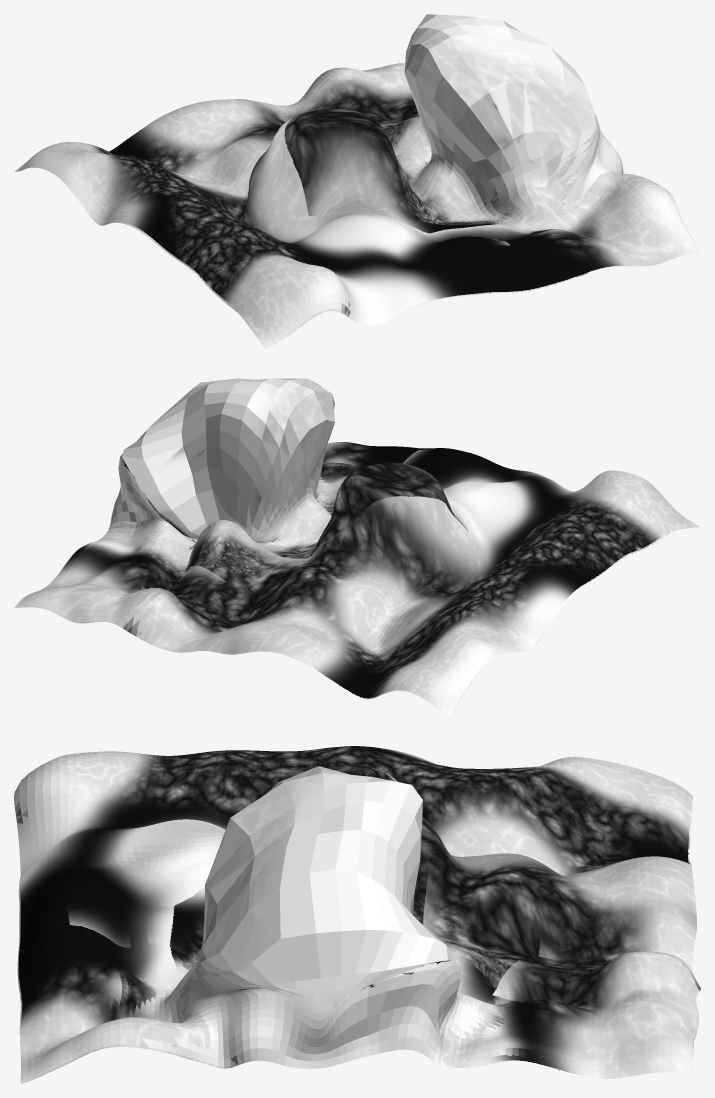
The model's file is terrain.glb.
The picture shows the model from 3 angles, top to bottom: view 1: azimuth 30°, elevation 25°; view 2: azimuth 150°, elevation 25°; view 3: azimuth 270°, elevation 25°; orthographic projection. The views are drawn at different scales.
Parts seen in each view (by area): view 1: Plane; view 2: Plane; view 3: Plane.
Part boxes in pixels (x1,y1,x2,y2): Plane: (14,14,700,349); Plane: (14,378,699,717); Plane: (14,746,700,1083).
Bounding box in the file's own units: 306 × 111 × 307.
1 material, 1 textured.
